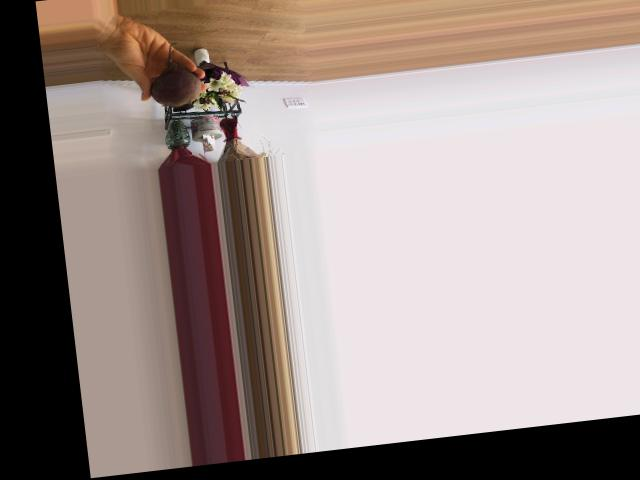beet: (146, 39, 204, 114)
